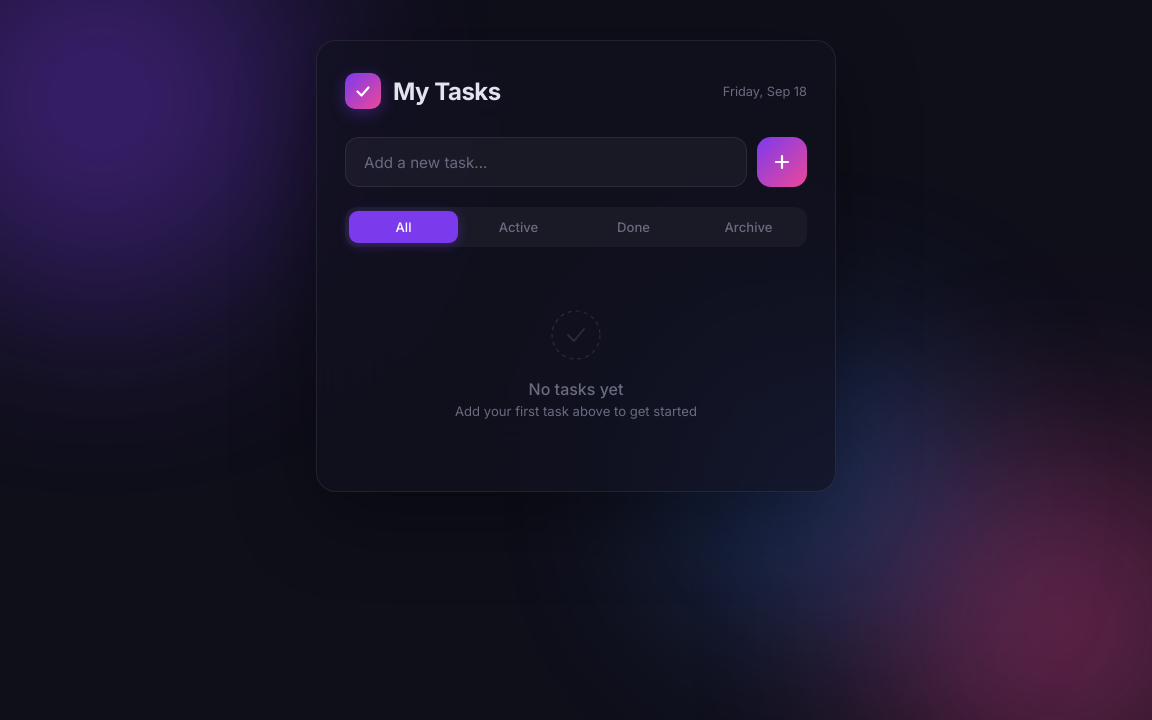
App › toggles a todo as completed
The image size is (1152, 720).
Type "Read a book" into the field with placeholder "Add a new task..." at (546, 162), box [345,137,747,187]
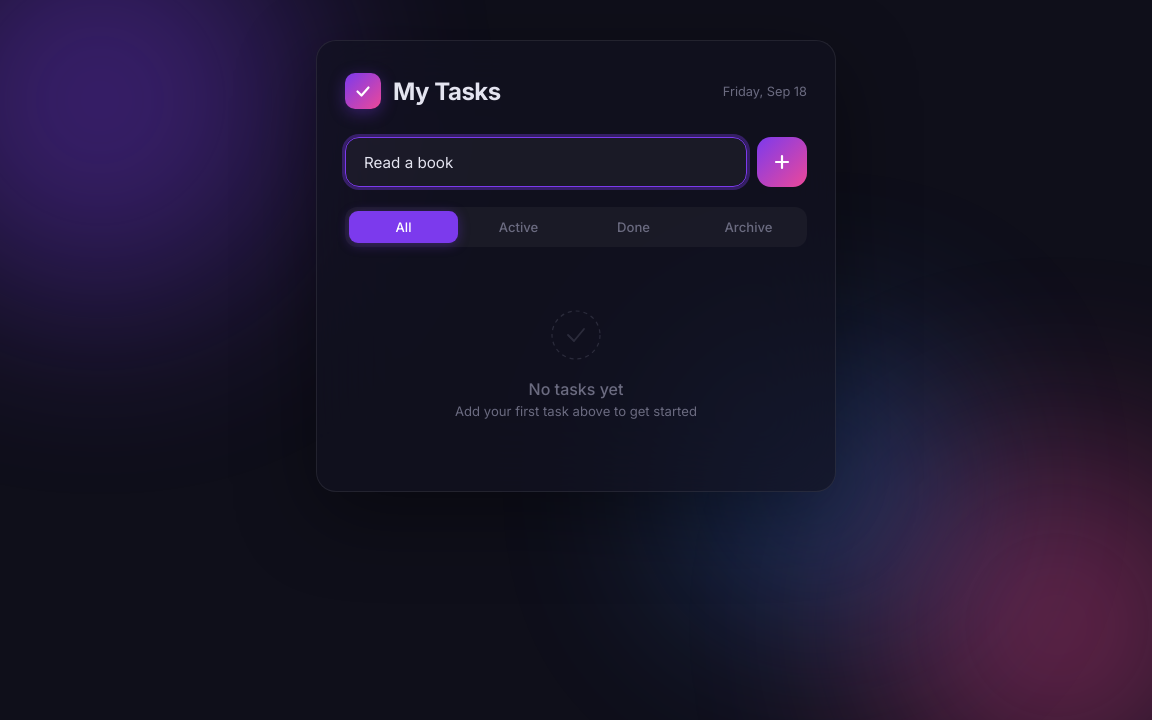
Click the button named "Add task" at (782, 162), box [757,137,807,187]
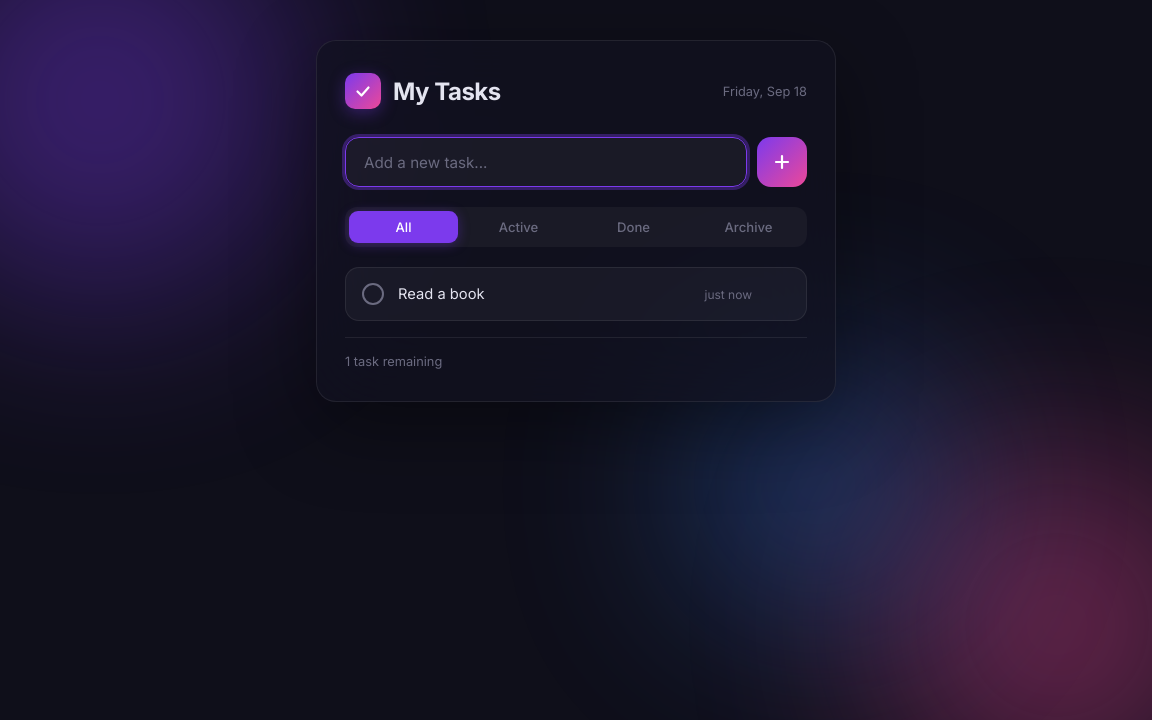
Click the checkbox named "Mark \"Read a book\"" at (576, 294), box [345,267,807,321]
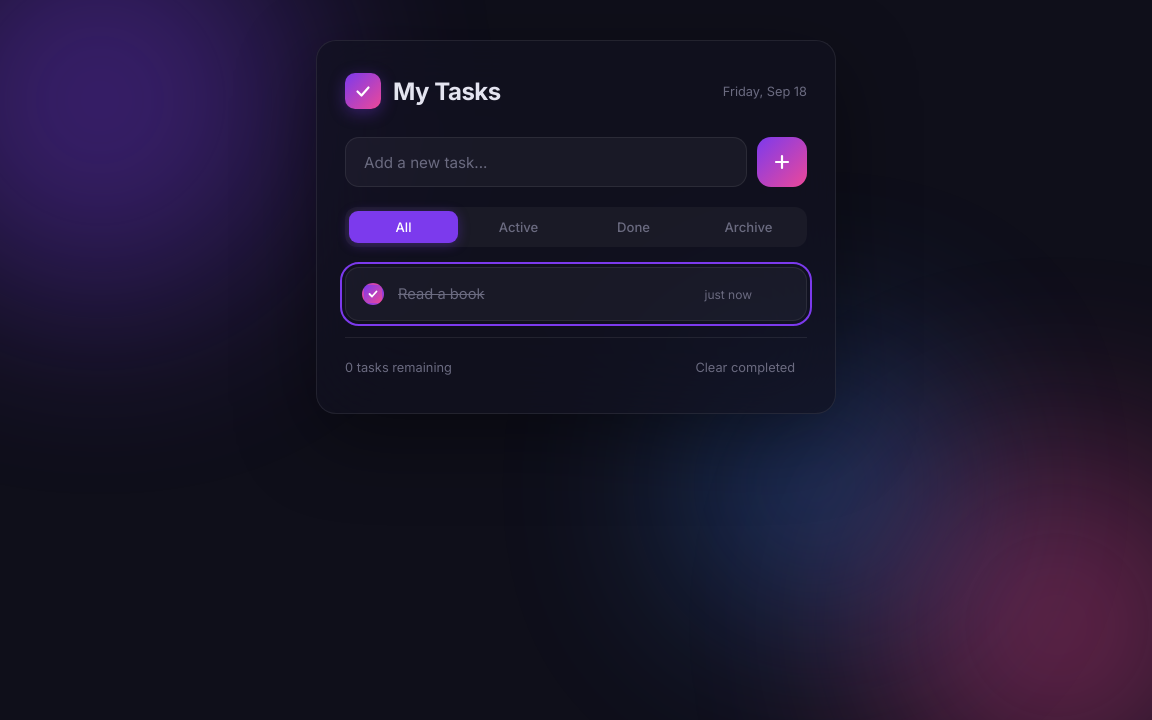
Check: the text "0 tasks remaining" is shown, box [345,360,452,375]
